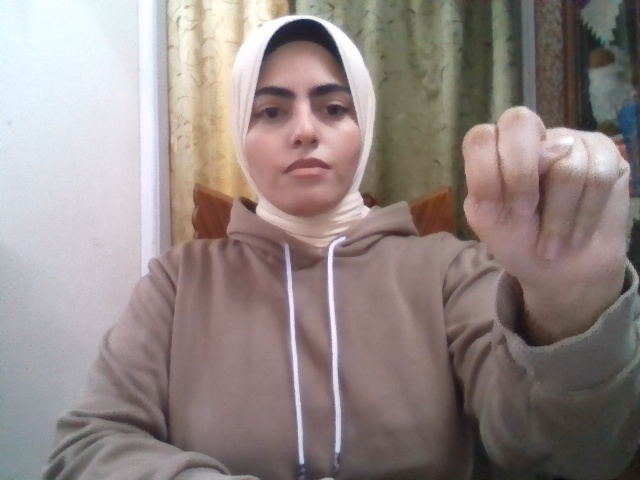N: (462, 106, 631, 290)
